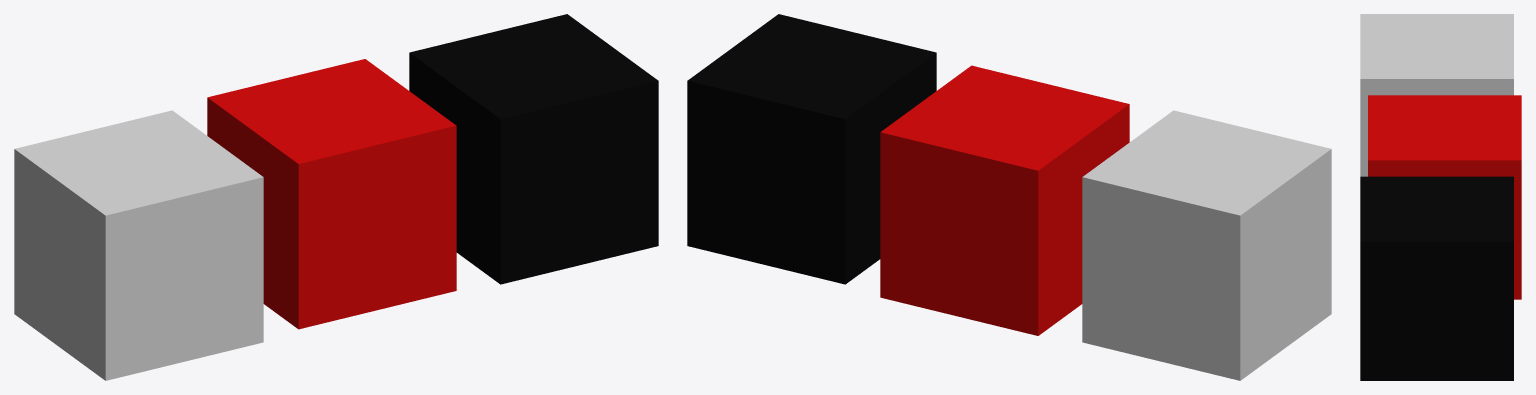
The picture shows the model from 3 angles, left to right: view 1: azimuth 30°, elevation 25°; view 2: azimuth 150°, elevation 25°; view 3: azimuth 270°, elevation 25°; orthographic projection. The views are drawn at different scales.
Parts seen in each view (by area): view 1: Mesh_Mesh_head_geo.001_lambert2SG.001; view 2: Mesh_Mesh_head_geo.001_lambert2SG.001; view 3: Mesh_Mesh_head_geo.001_lambert2SG.001.
Boxes of the visible parts, x1,y1,x2,y2 form: Mesh_Mesh_head_geo.001_lambert2SG.001: (14, 14, 658, 380); Mesh_Mesh_head_geo.001_lambert2SG.001: (687, 14, 1331, 380); Mesh_Mesh_head_geo.001_lambert2SG.001: (1360, 14, 1521, 380).
Bounding box in the file's own units: 0.07 × 0.02 × 0.021.
